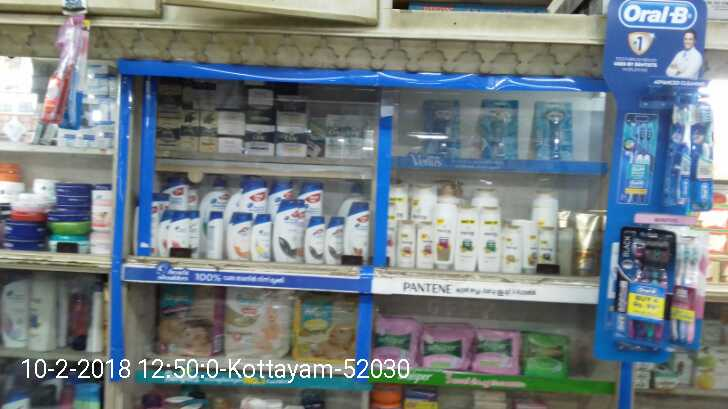venus: (478, 98, 521, 157), (534, 101, 574, 159), (420, 99, 461, 155)
